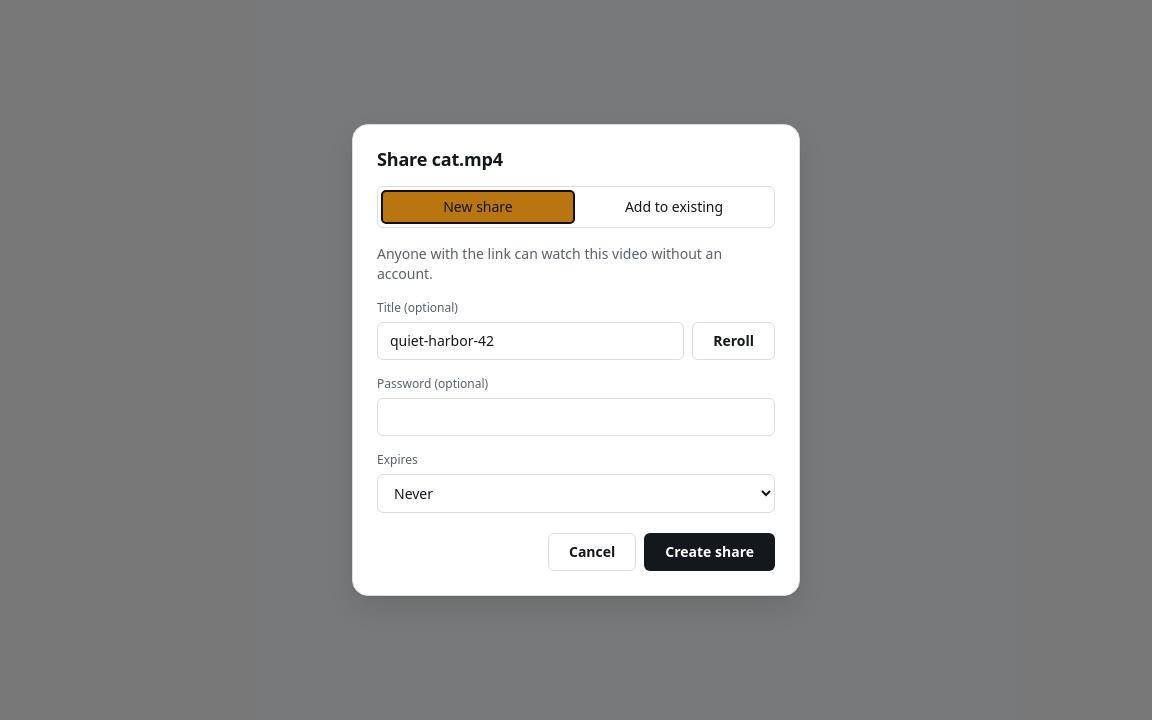
it: ShareDialog › omits title, password, and expires_at when the prefill is cleared
Clear the field labelled "Title (optional)" at [531, 341], box [377,322,684,360]
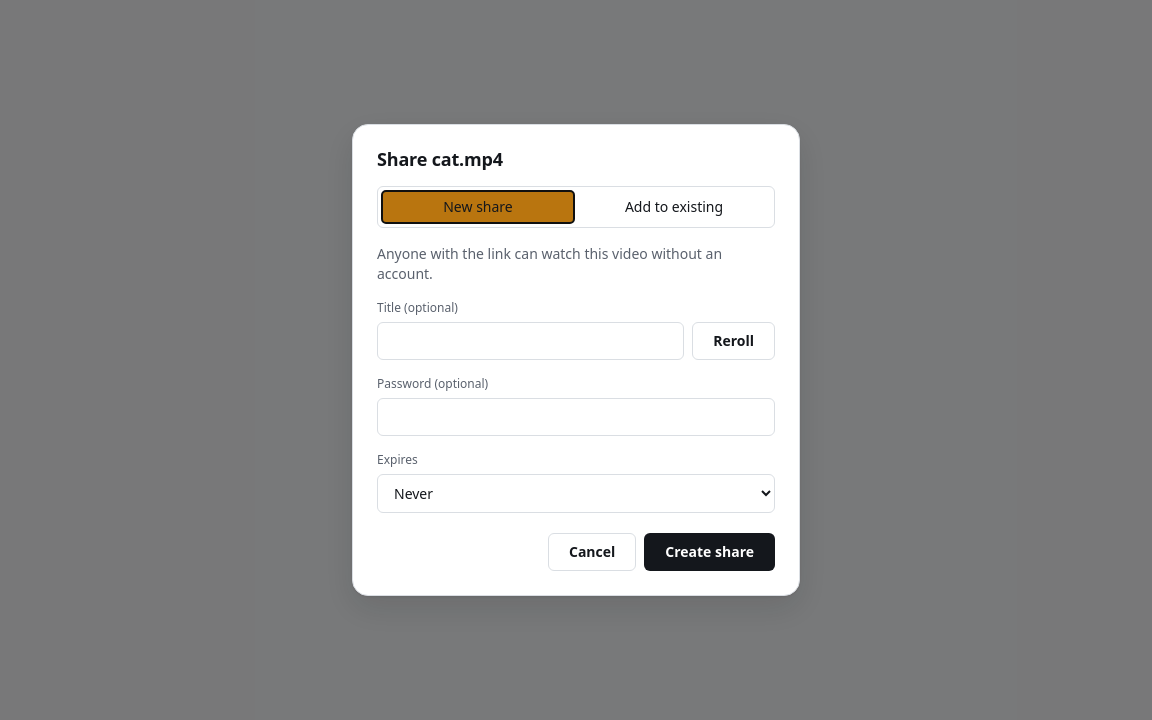
Click the button "Create share" at [710, 552], box [644,533,775,571]
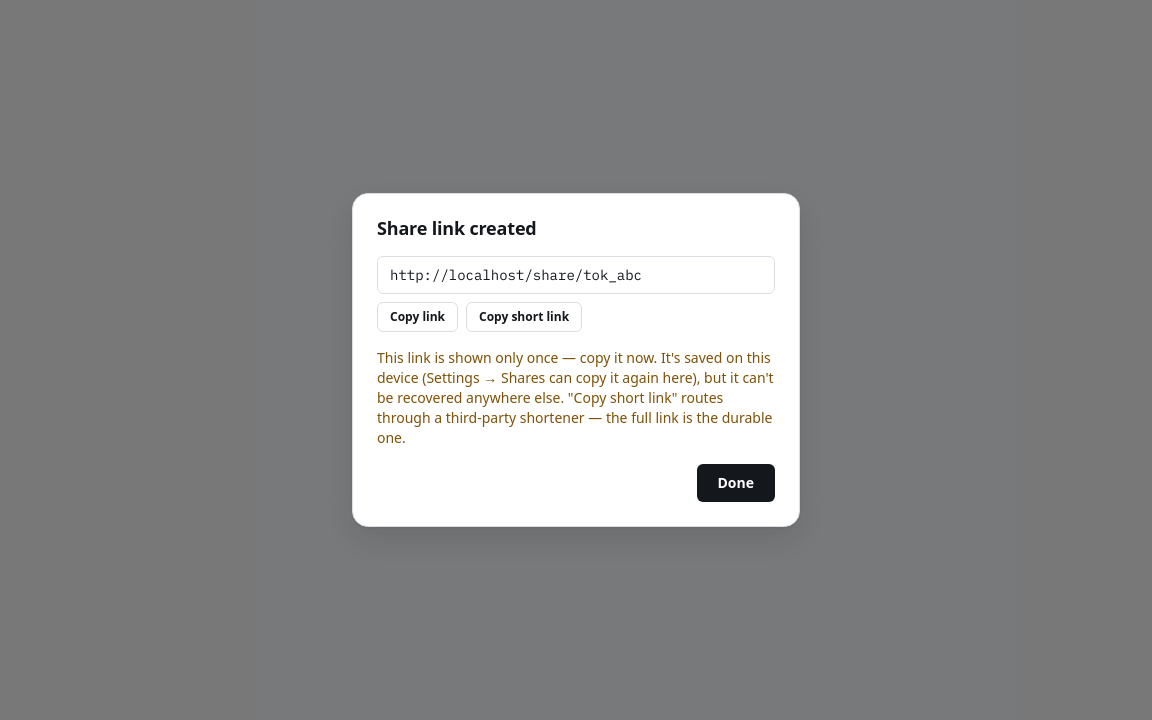
Result: the text "only once" is shown at [377,348,774,447]
